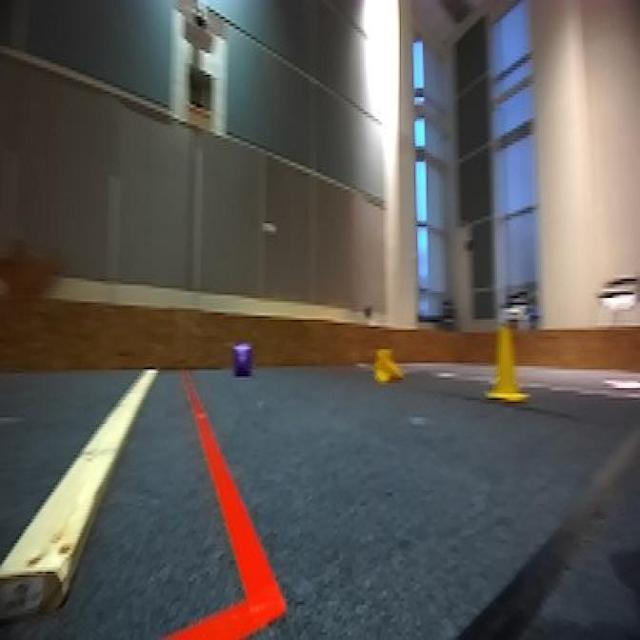frc_cone: (486, 318, 528, 405), (372, 346, 406, 383)
frc_cube: (234, 344, 252, 374)
